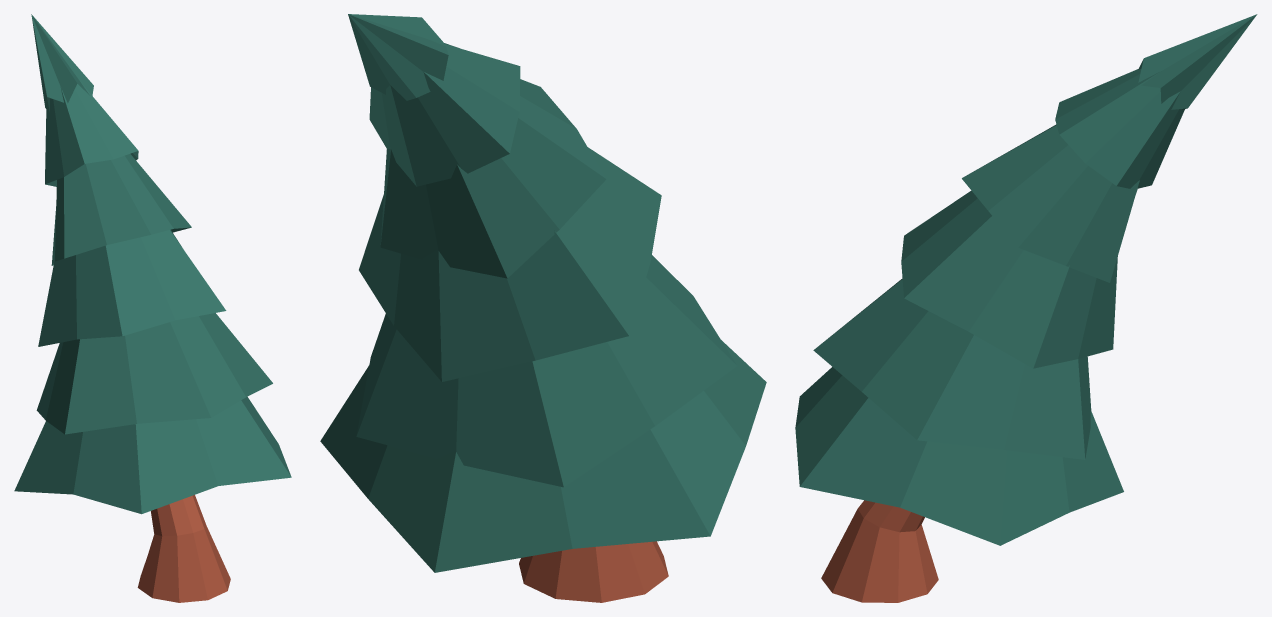
The model's file is pinetree3bend 1.fbx.
3 renders of one model, left to right at view 1: azimuth 30°, elevation 25°; view 2: azimuth 150°, elevation 25°; view 3: azimuth 270°, elevation 25°, orthographic. The views are drawn at different scales.
Visible parts, largest first — view 1: Cylinder; view 2: Cylinder; view 3: Cylinder.
Part boxes in pixels (box(x1,y1,x2,y2)): Cylinder: box(14, 14, 291, 602); Cylinder: box(320, 14, 766, 602); Cylinder: box(795, 14, 1257, 602).
Bounding box in the file's own units: 421 × 760 × 563.
